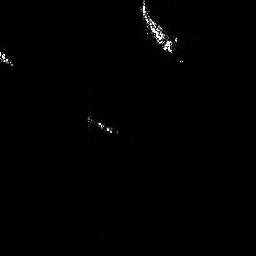ship: (137, 1, 179, 56), (84, 109, 121, 138), (1, 48, 17, 71)
